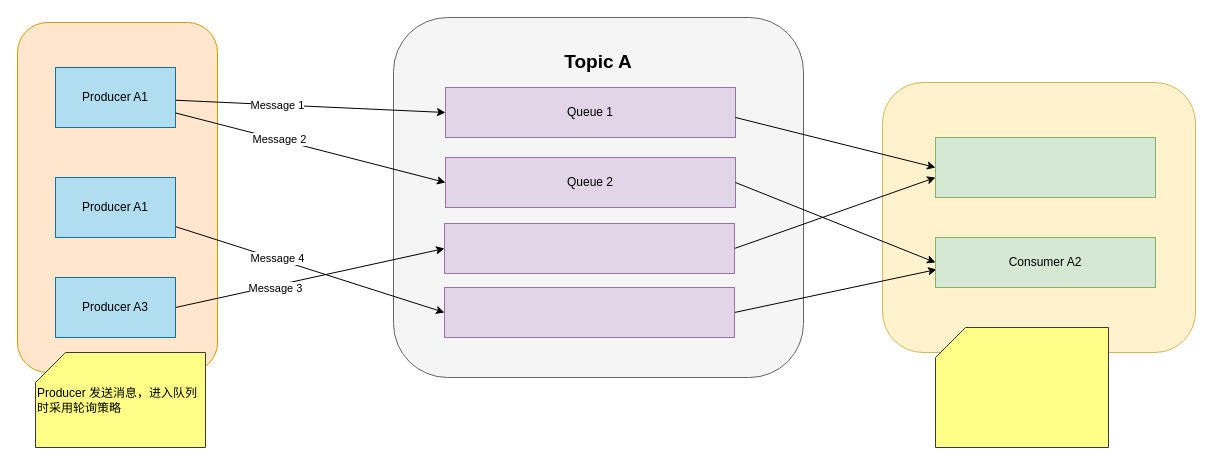
This 1213x465 diagram has some shape labels left out. The box of each missing label's shape, as (x1, y1, x2, y2) in pixels:
Consumer A1: (934, 136, 1156, 198)
Consumer消费消息时，同一个consumer group 下的多个consumer会均匀分配队列进行消费: (934, 326, 1108, 448)
Queue 3: (444, 222, 734, 274)
Queue 4: (444, 286, 734, 338)
